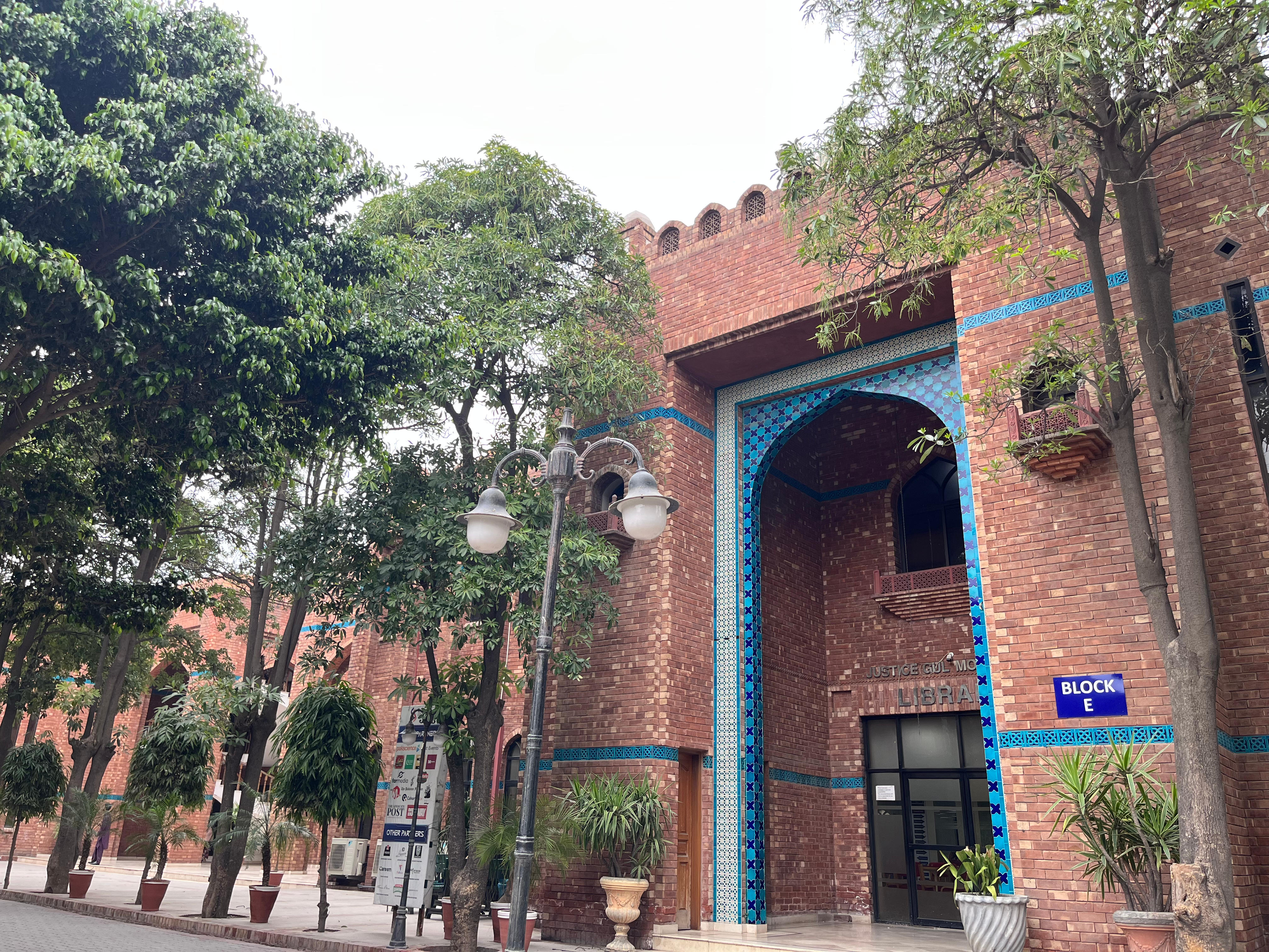Block E: (3, 86, 1269, 949)
